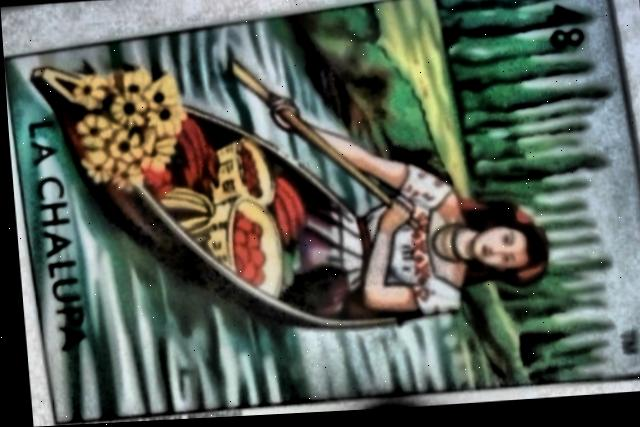La Chalupa: (3, 0, 640, 424)
